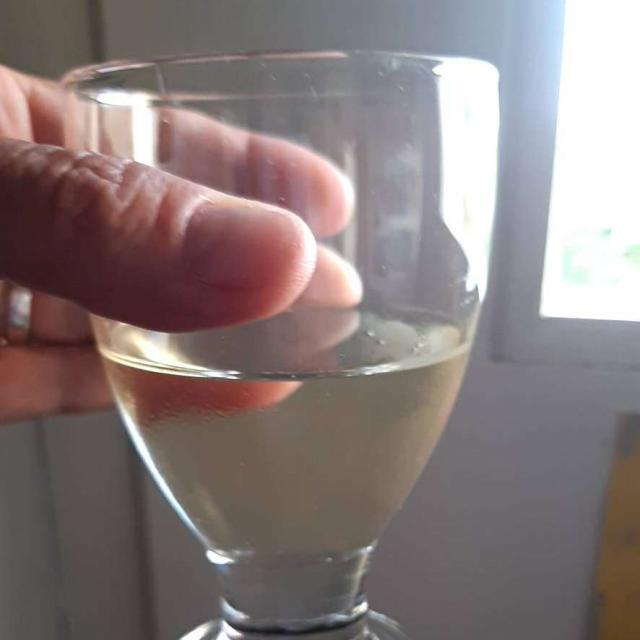wine: (109, 293, 476, 559)
